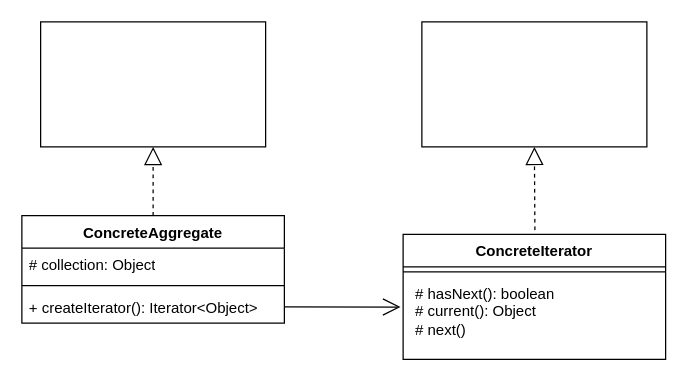
Image size: 688x385. Some labels were removed from this diagram. Each missing label, with the centre of its shape:
"<<Interface>> Aggregate <T> + createIterator(): Iterator<T>" belongs at (x=152, y=84).
"<<Interface>> Iterator <T> # hasNext(): boolean # current(): T # next()" belongs at (x=534, y=84).
